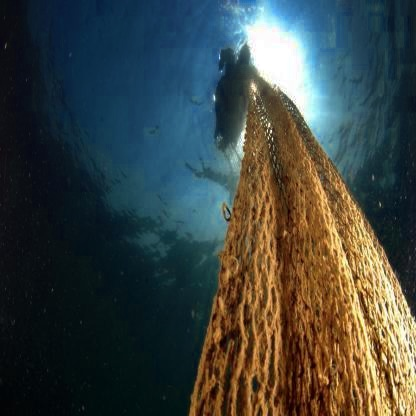net: (195, 86, 416, 416)
